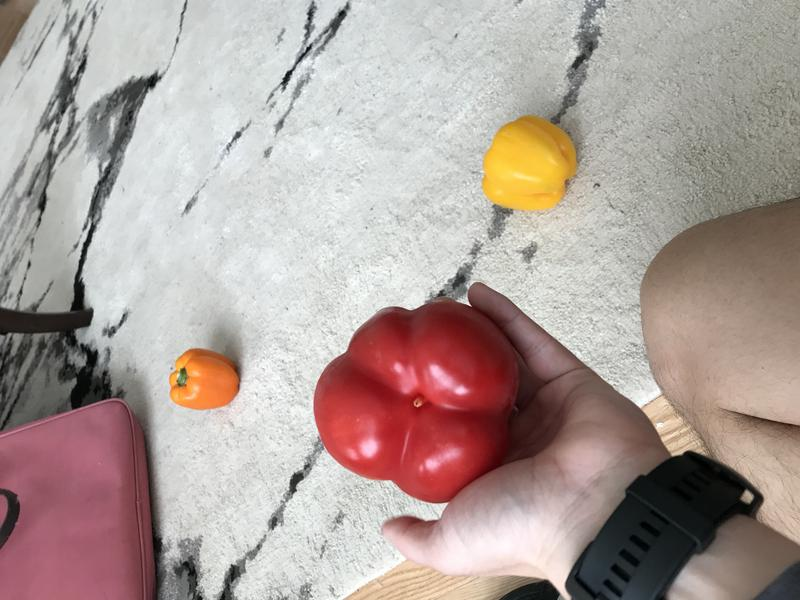orange_pepper: (158, 346, 250, 420)
red_pepper: (298, 294, 535, 507)
yellow_pepper: (472, 113, 585, 215)
